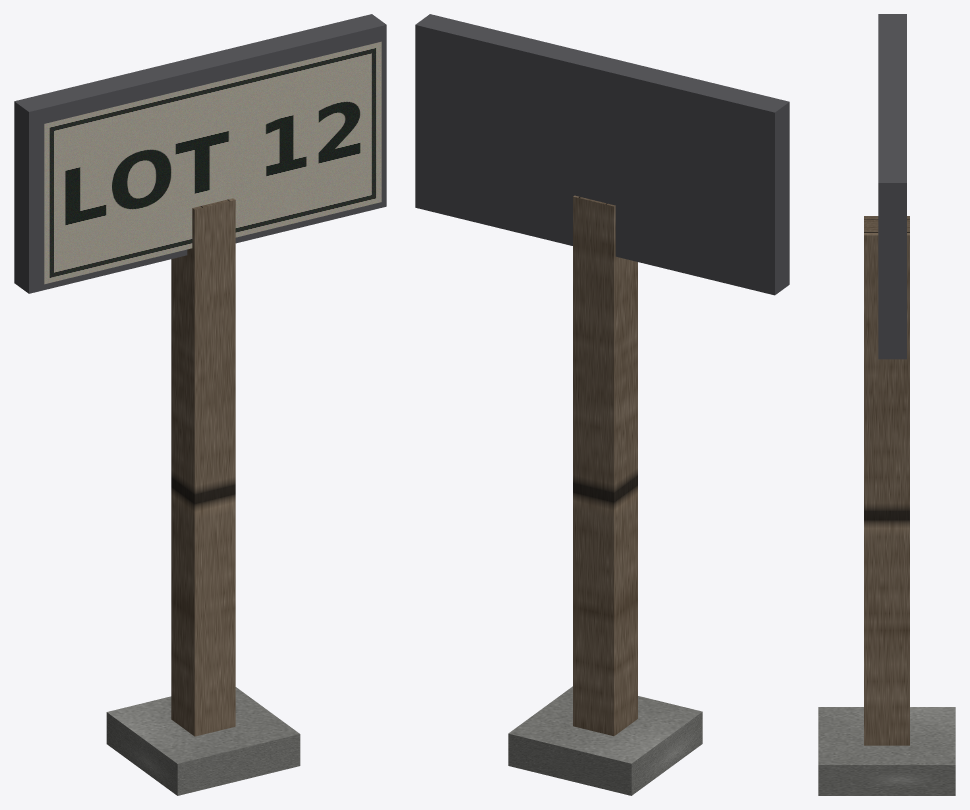
Rendered from WK_SGN_LotNumber.glb.
The picture shows the model from 3 angles, left to right: view 1: azimuth 30°, elevation 25°; view 2: azimuth 150°, elevation 25°; view 3: azimuth 270°, elevation 25°; orthographic projection. The views are drawn at different scales.
Visible parts, largest first — view 1: WK_SGN_LotNumber_P03, WK_SGN_LotNumber_P01, WK_SGN_LotNumber_P02, WK_SGN_LotNumber_P05; view 2: WK_SGN_LotNumber_P02, WK_SGN_LotNumber_P01, WK_SGN_LotNumber_P05; view 3: WK_SGN_LotNumber_P01, WK_SGN_LotNumber_P05, WK_SGN_LotNumber_P02.
Boxes of the visible parts, bbox=[...] form: WK_SGN_LotNumber_P03: bbox=[44, 41, 381, 284]; WK_SGN_LotNumber_P01: bbox=[171, 198, 235, 736]; WK_SGN_LotNumber_P02: bbox=[14, 14, 386, 293]; WK_SGN_LotNumber_P05: bbox=[106, 687, 300, 795]; WK_SGN_LotNumber_P02: bbox=[415, 14, 789, 295]; WK_SGN_LotNumber_P01: bbox=[573, 195, 637, 736]; WK_SGN_LotNumber_P05: bbox=[508, 686, 702, 795]; WK_SGN_LotNumber_P01: bbox=[864, 216, 909, 745]; WK_SGN_LotNumber_P05: bbox=[818, 707, 955, 795]; WK_SGN_LotNumber_P02: bbox=[878, 14, 906, 359].
Size of the model in its own units: 0.7 by 1.3 by 0.24.
Materials: 4 (3 with a texture image).
